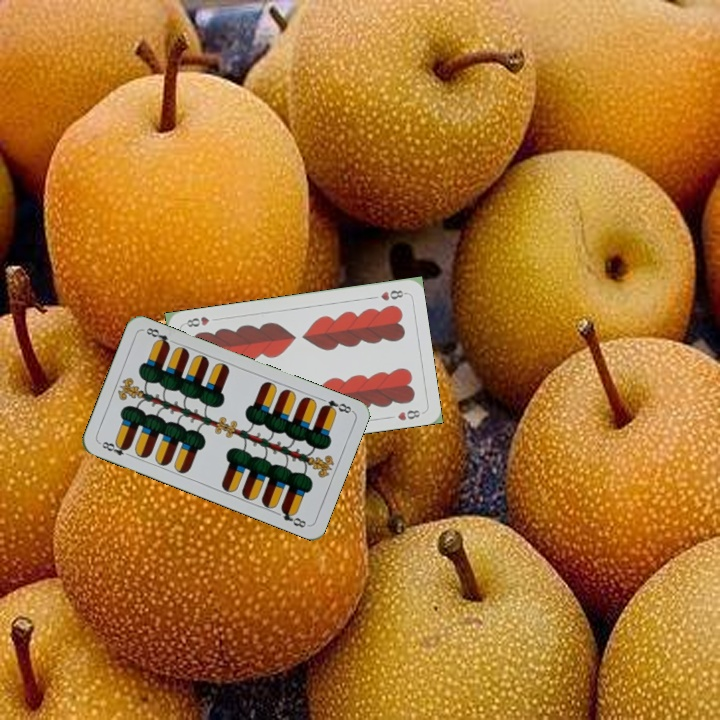E8: (96, 437, 135, 460), (317, 396, 355, 416)
H8: (377, 286, 408, 303)
